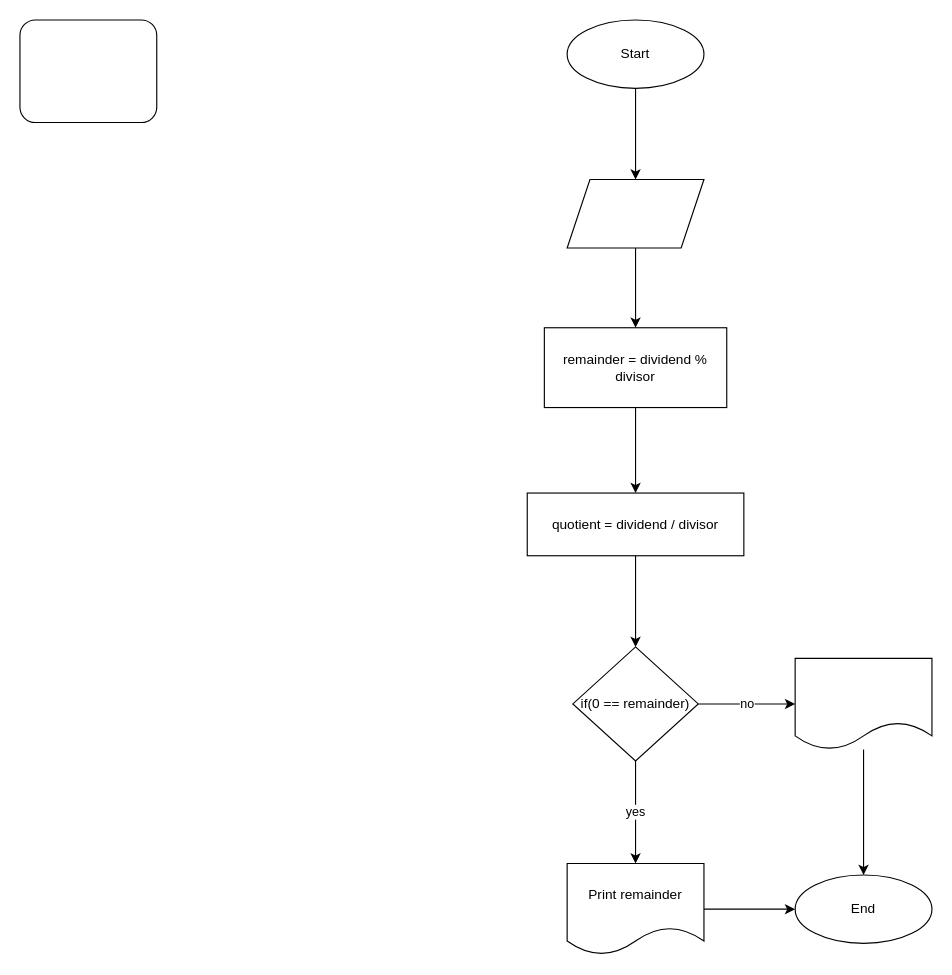
This 952x975 diagram has some shape labels left out. Here are the shapes that lost their labels. From the top down, the centre of each, then its label:
point 88,71: Выяснитть, кратно ли число заданному, если нет , вывести остаток.
point 635,213: dividend, divisor
point 863,703: Print quotient
